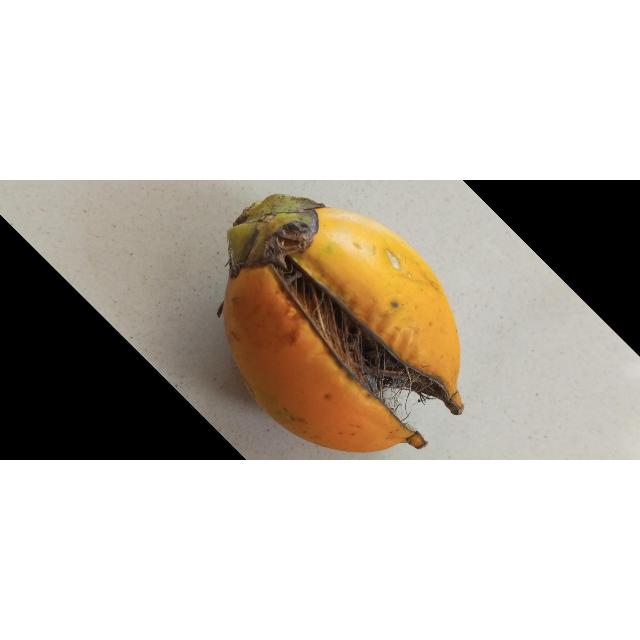damaged: (217, 194, 464, 453)
